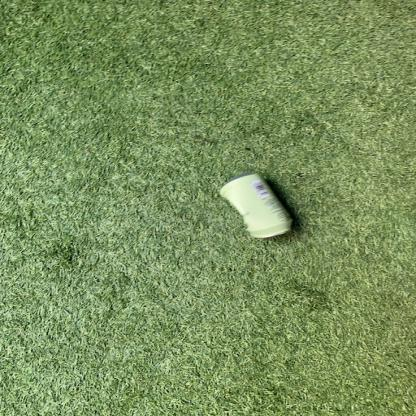trash: (217, 175, 297, 242)
